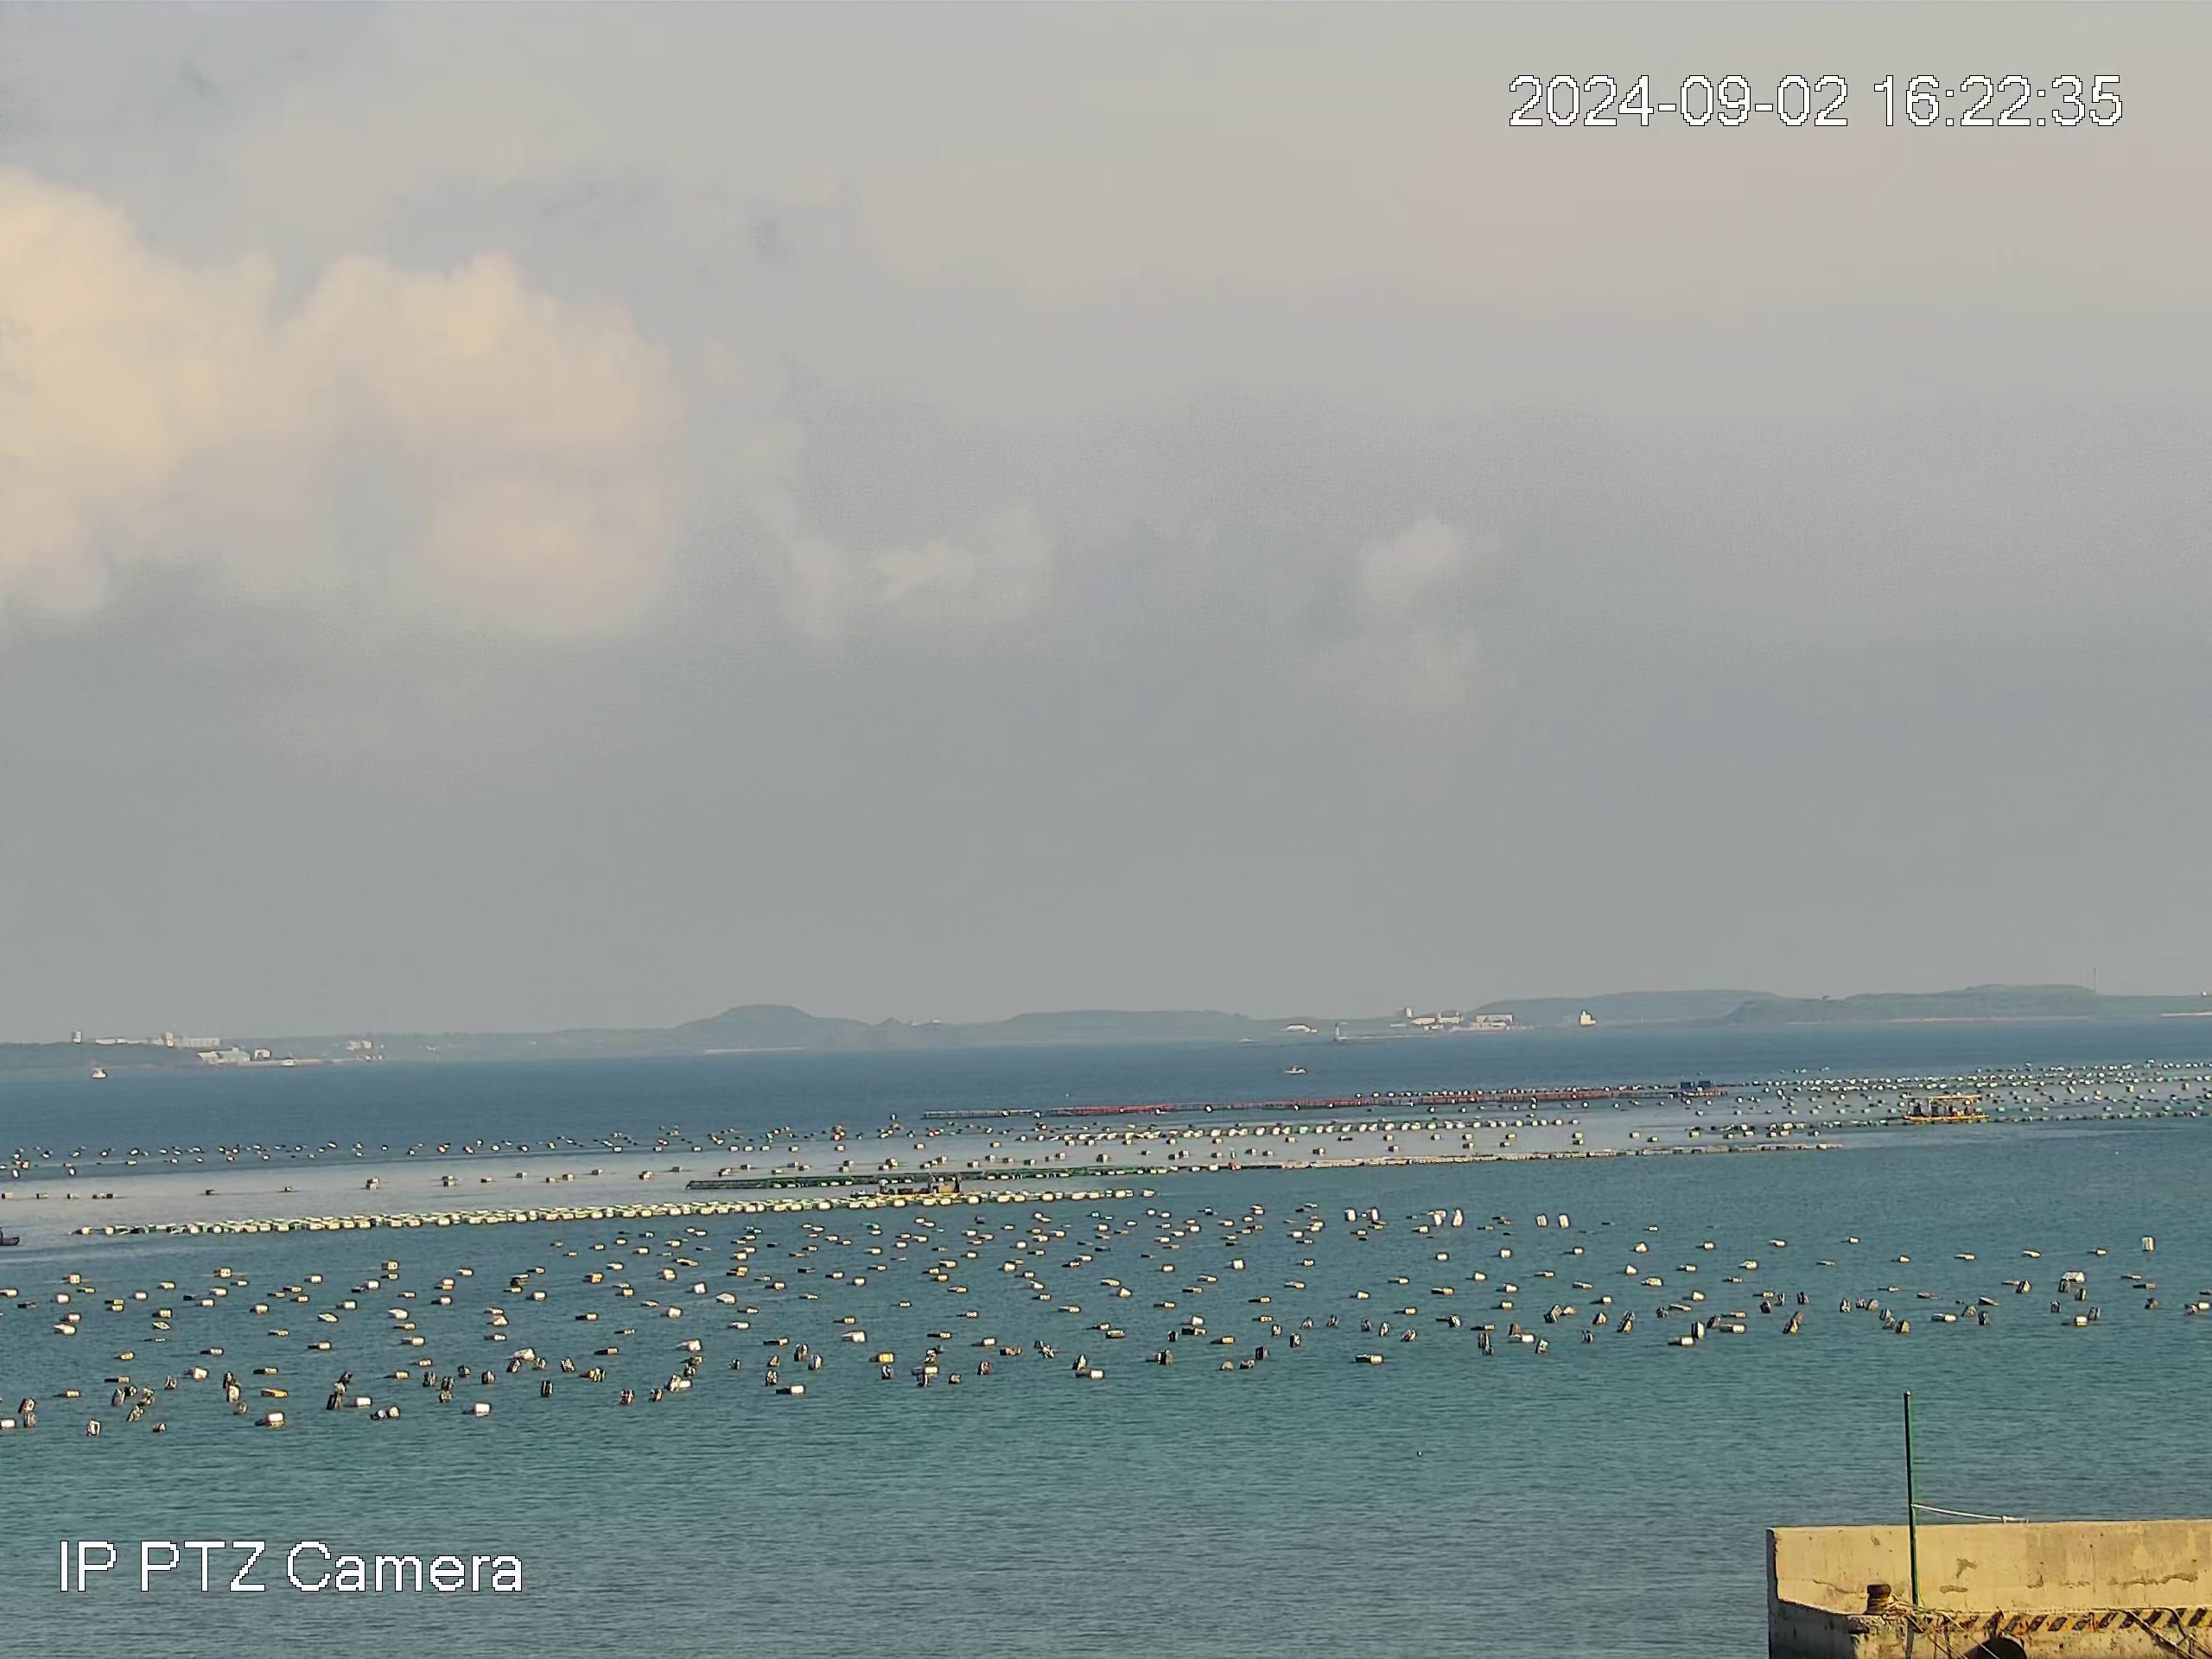boat: (1900, 1093, 1991, 1126), (874, 1173, 961, 1199), (1282, 1063, 1306, 1077)
